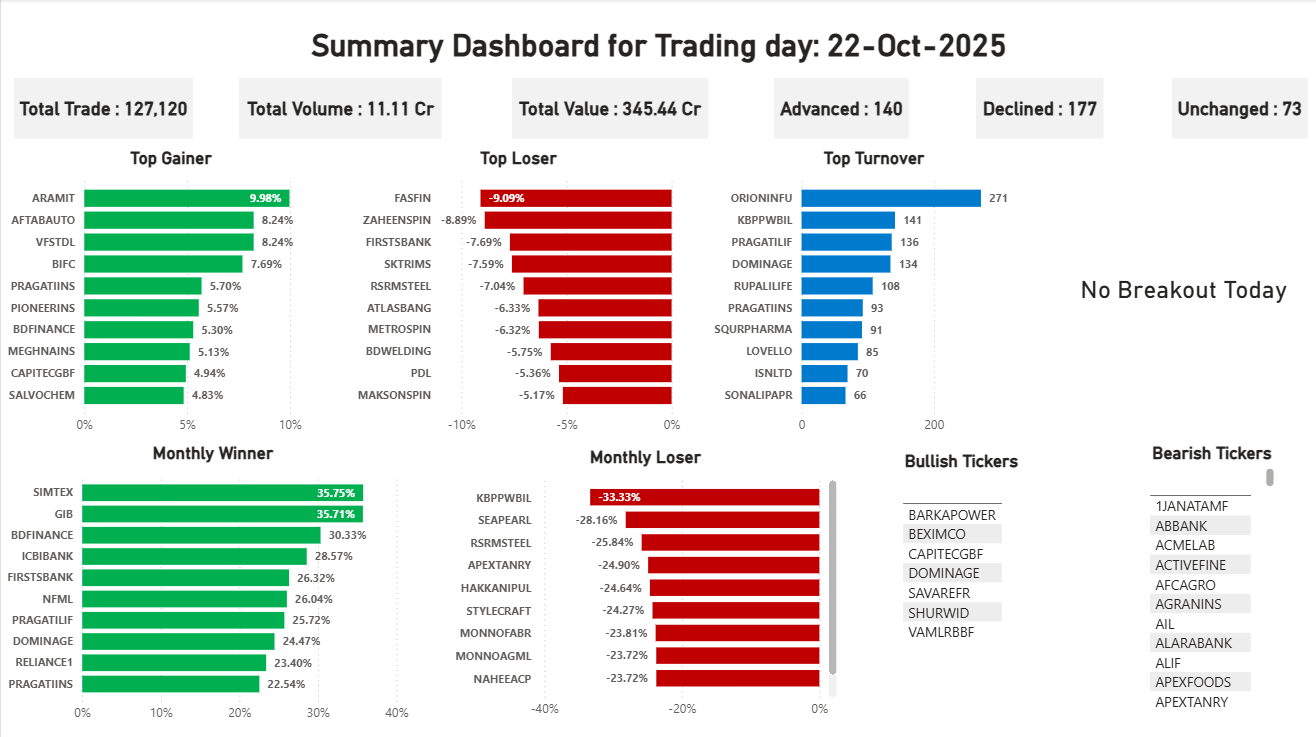

The dashboard page shown, as its layout file describes it:
{"tool":"powerbi","page":{"name":"Page 1","canvas":[1280,720],"ordinal":0},"visuals":[{"type":"card","fields":{"Values":["trade_data.TradingDay"]},"box":[280.1,0,719.8,85.6],"z":0},{"type":"card","fields":{"Values":["trade_data.TotalTrade"]},"box":[12.6,76.8,174.1,59.3],"z":1000},{"type":"card","fields":{"Values":["trade_data.TotalVolume"]},"box":[231.5,76.8,197.4,59.3],"z":2000},{"type":"card","fields":{"Values":["trade_data.TotalValue"]},"box":[497,76.8,190.6,59.3],"z":3000},{"type":"card","fields":{"Values":["trade_data.Total_Advance"]},"box":[751.9,76.8,131.3,59.3],"z":4000},{"type":"card","fields":{"Values":["trade_data.Total_Declined"]},"box":[948.3,76.8,124.5,59.3],"z":5000},{"type":"card","fields":{"Values":["trade_data.Total_Unchanged"]},"box":[1139,76.8,132.3,59.3],"z":6000},{"type":"clusteredBarChart","title":"Top Gainer","fields":{"Category":["trade_data.Scrip"],"Y":["Sum(trade_data.DailyReturn)"]},"box":[0,144.9,330.7,286.9],"z":7000},{"type":"clusteredBarChart","title":"Top Loser","fields":{"Y":["Sum(trade_data.DailyReturn)"],"Category":["trade_data.Scrip"]},"box":[340.4,144.9,325.8,286.9],"z":8000},{"type":"clusteredBarChart","title":"Top Turnover","fields":{"Category":["trade_data.Scrip"],"Y":["Sum(trade_data.VALUE (mn))"]},"box":[687.7,144.9,322.9,286.9],"z":9000},{"type":"clusteredBarChart","title":"Monthly Winner","fields":{"Category":["trade_data.Scrip"],"Y":["Sum(trade_data.MonthlyReturn)"]},"box":[0,431.9,412.4,280.1],"z":10000},{"type":"clusteredBarChart","title":"Monthly Loser","fields":{"Category":["trade_data.Scrip"],"Y":["Sum(trade_data.MonthlyReturn)"]},"box":[435.7,435.7,382.2,272.3],"z":11000},{"type":"card","fields":{"Values":["Today_Breakouts.Breakout_Today"]},"box":[1021.3,144.9,258.7,272.3],"z":12000},{"type":"tableEx","title":"Bullish Tickers","fields":{"Values":["trade_data.Scrip"]},"box":[871.5,439.6,125.5,272.3],"z":13000},{"type":"tableEx","title":"Bearish Tickers","fields":{"Values":["trade_data.Scrip"]},"box":[1111.7,431.9,132.3,264.6],"z":14000}]}

Visuals, with their boxes in screenshot pixels (x1, y1, x2, y2), scaled from the page's 1280x720 canvas onto the 1316x737 screenshot:
card - trade_data.TradingDay: rect(288, 0, 1028, 88)
card - trade_data.TotalTrade: rect(13, 79, 192, 139)
card - trade_data.TotalVolume: rect(238, 79, 441, 139)
card - trade_data.TotalValue: rect(511, 79, 707, 139)
card - trade_data.Total_Advance: rect(773, 79, 908, 139)
card - trade_data.Total_Declined: rect(975, 79, 1103, 139)
card - trade_data.Total_Unchanged: rect(1171, 79, 1307, 139)
"Top Gainer" clusteredBarChart: rect(0, 148, 340, 442)
"Top Loser" clusteredBarChart: rect(350, 148, 685, 442)
"Top Turnover" clusteredBarChart: rect(707, 148, 1039, 442)
"Monthly Winner" clusteredBarChart: rect(0, 442, 424, 729)
"Monthly Loser" clusteredBarChart: rect(448, 446, 841, 725)
card - Today_Breakouts.Breakout_Today: rect(1050, 148, 1315, 427)
"Bullish Tickers" tableEx: rect(896, 450, 1025, 729)
"Bearish Tickers" tableEx: rect(1143, 442, 1279, 713)
